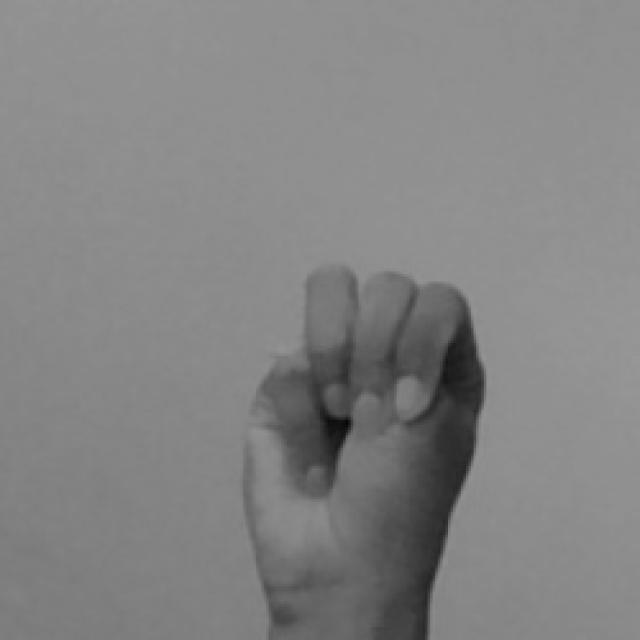M: (235, 261, 492, 640)
